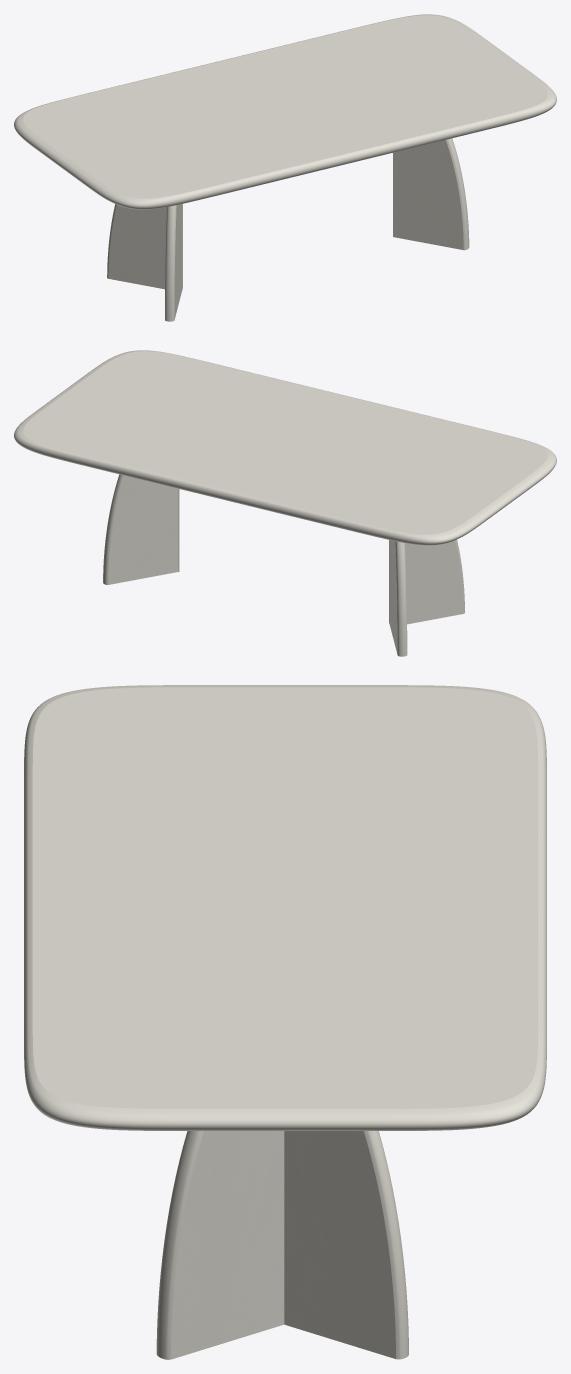
The model's file is pale_softrecta_round_newtable2.glb.
The picture shows the model from 3 angles, top to bottom: view 1: azimuth 30°, elevation 25°; view 2: azimuth 150°, elevation 25°; view 3: azimuth 270°, elevation 25°; orthographic projection. The views are drawn at different scales.
Visible parts, largest first — view 1: round_softrecta, newtable2_singleright2, newtable2_singleleft1, newtable2_singleright1; view 2: round_softrecta, newtable2_singleleft2, newtable2_singleright1, newtable2_singleleft1; view 3: round_softrecta, newtable2_singleright2, newtable2_singleleft2.
Part boxes in pixels (<box>): round_softrecta: <box>14,14,556,209</box>; newtable2_singleright2: <box>393,138,469,250</box>; newtable2_singleleft1: <box>107,204,182,289</box>; newtable2_singleright1: <box>165,204,182,321</box>; round_softrecta: <box>14,350,556,545</box>; newtable2_singleleft2: <box>103,474,178,584</box>; newtable2_singleright1: <box>389,539,464,624</box>; newtable2_singleleft1: <box>389,540,407,656</box>; round_softrecta: <box>24,685,546,1130</box>; newtable2_singleright2: <box>156,1131,284,1359</box>; newtable2_singleleft2: <box>284,1131,408,1359</box>.
Size of the model in its own units: 7.5 by 2.49 by 3.8.
Materials: 1 (1 with a texture image).
